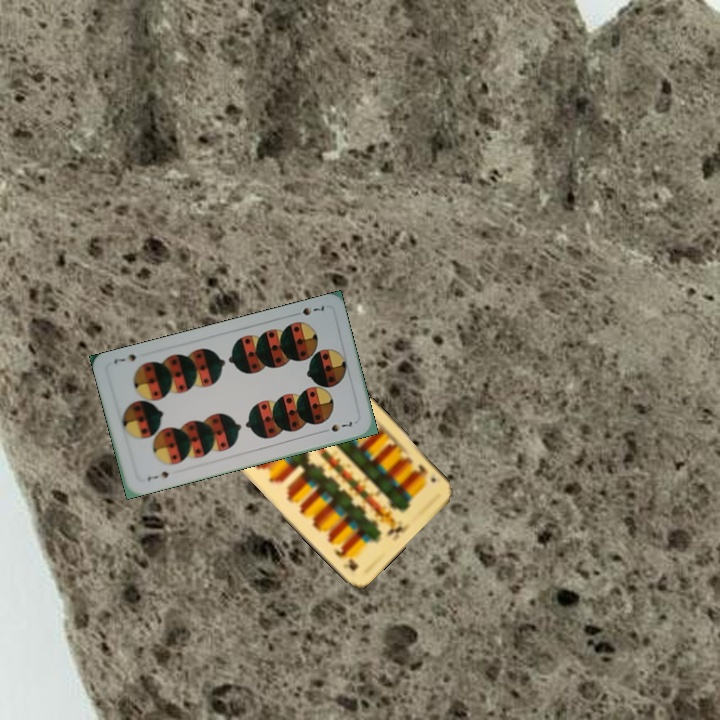E10: (411, 460, 438, 485)
S7: (288, 301, 327, 319), (143, 467, 171, 484)
